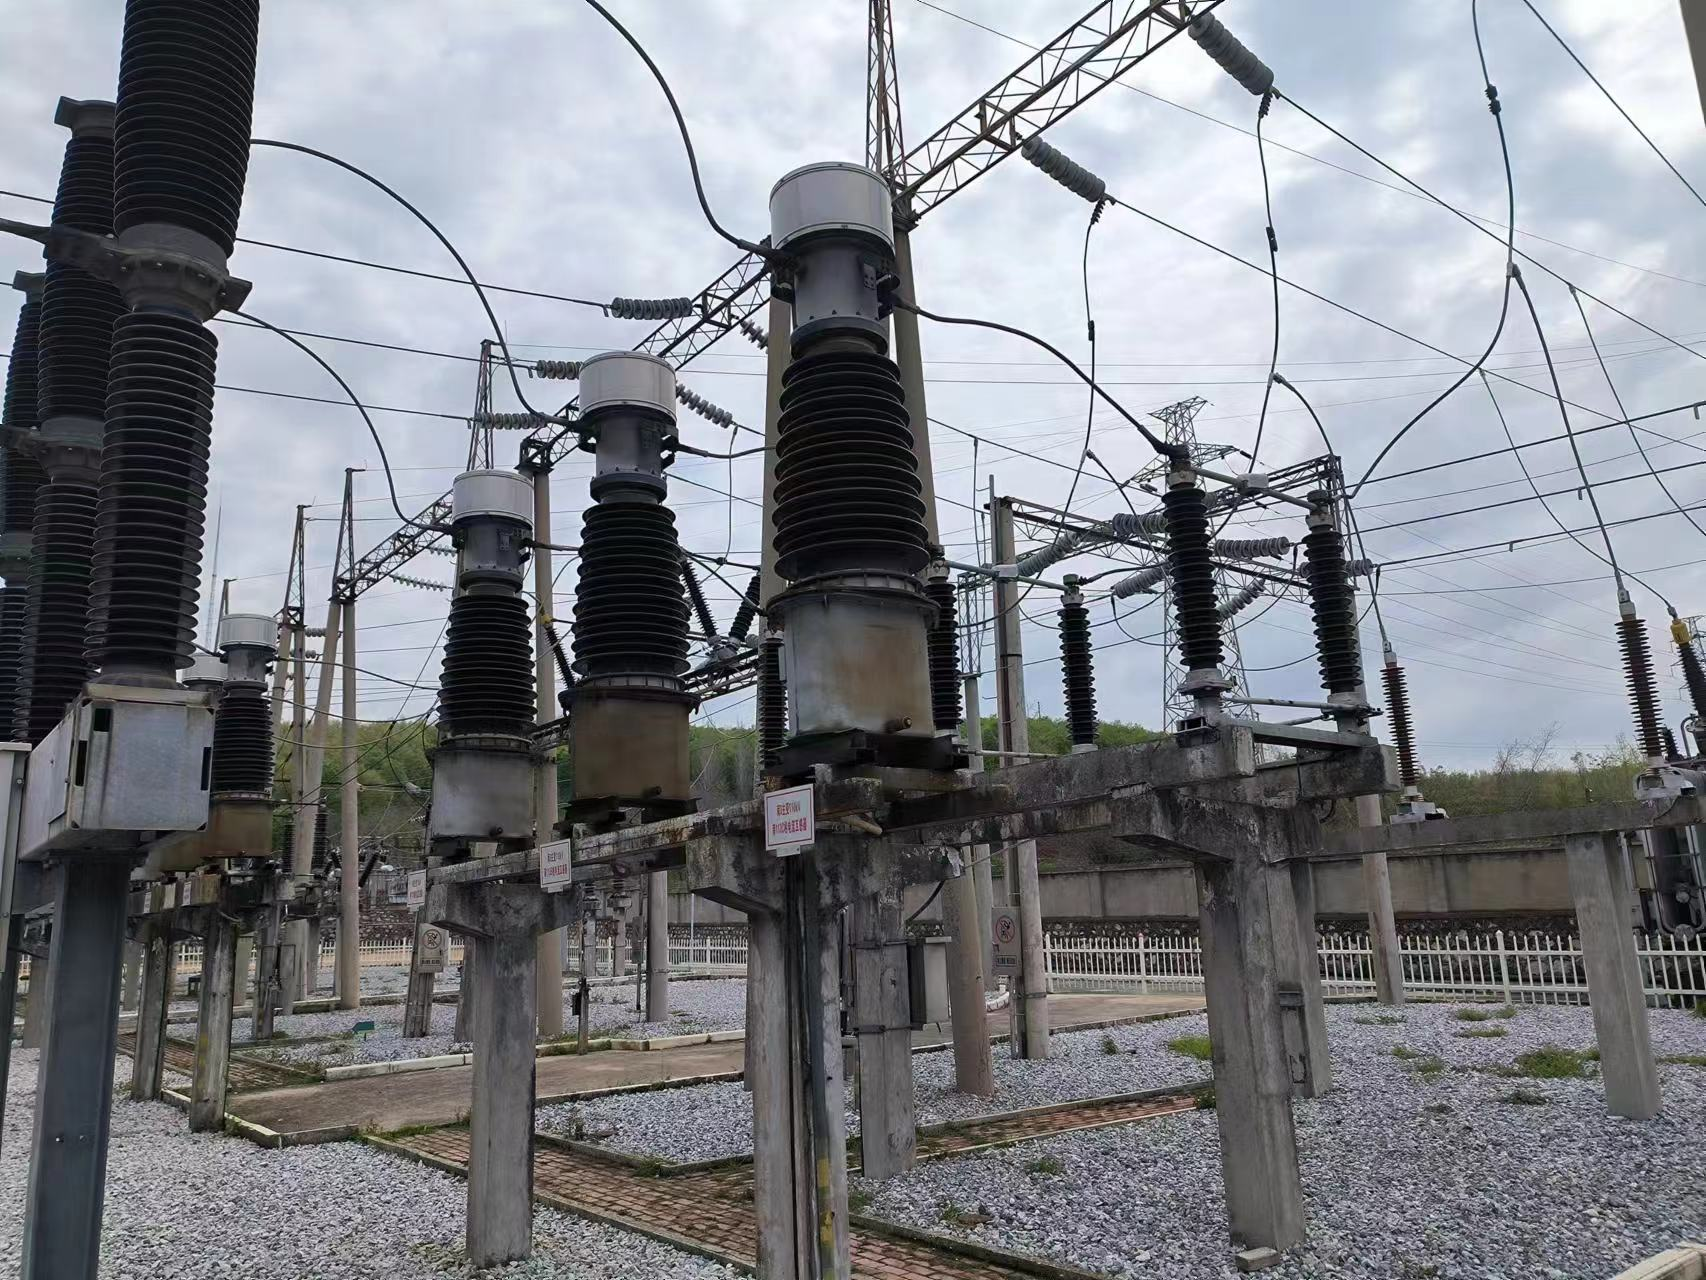Current transformer: (764, 159, 940, 752), (557, 347, 696, 801), (421, 471, 547, 840)
Disconnecting link: (1153, 445, 1387, 741)
